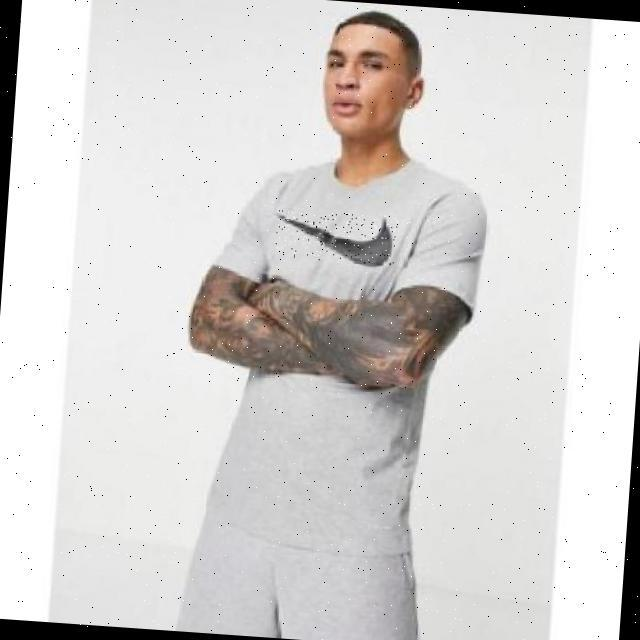Nike: (275, 208, 398, 265)
